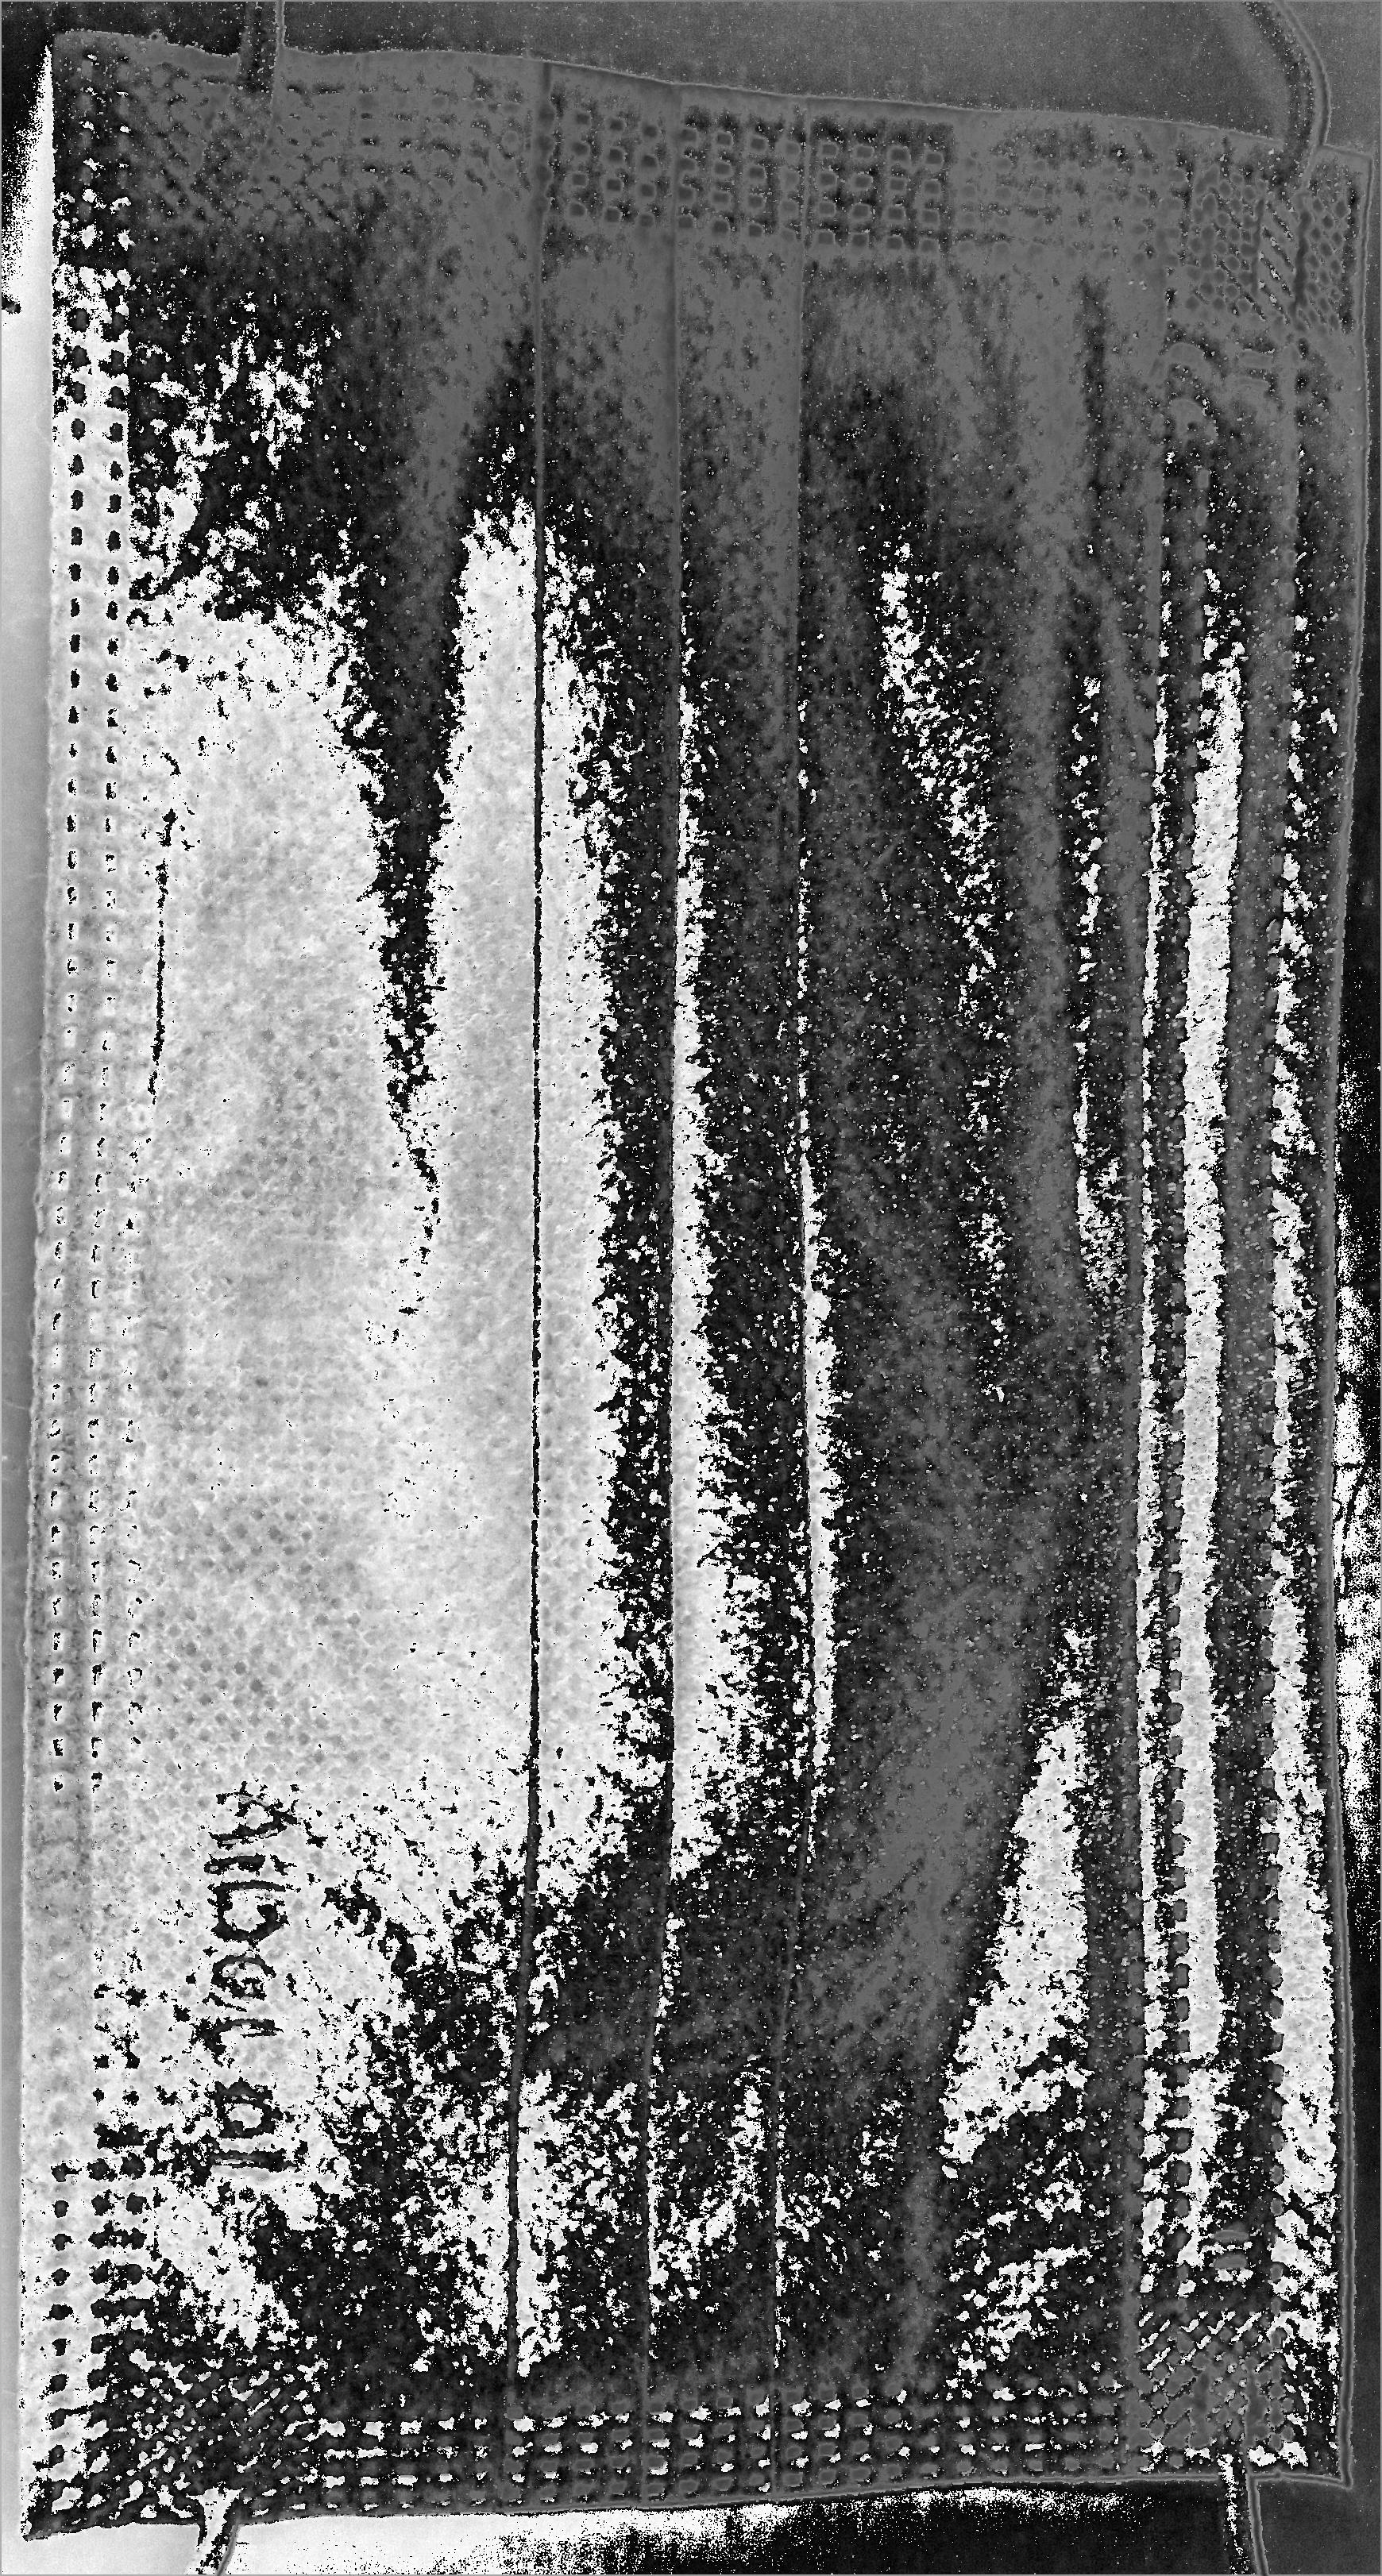Low GSM: (218, 286, 1094, 2320)
